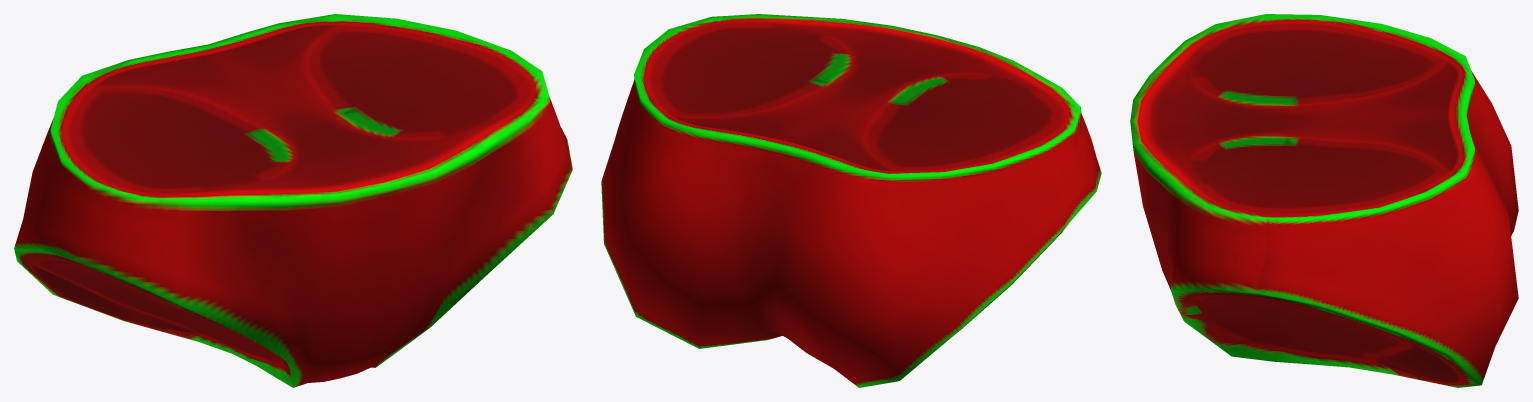
Rendered from Bottom_Bakini.obj.
3 views of the same model, side by side, from view 1: azimuth 30°, elevation 25°; view 2: azimuth 150°, elevation 25°; view 3: azimuth 270°, elevation 25° (orthographic). The views are drawn at different scales.
Parts seen in each view (by area): view 1: Bottom_Bakini_0; view 2: Bottom_Bakini_0; view 3: Bottom_Bakini_0.
Boxes of the visible parts, bbox=[...] form: Bottom_Bakini_0: bbox=[14, 14, 572, 387]; Bottom_Bakini_0: bbox=[601, 14, 1101, 387]; Bottom_Bakini_0: bbox=[1130, 14, 1518, 387].
Bounding box in the file's own units: 0.3078 × 0.1531 × 0.2245.
Materials: 1 (1 with a texture image).
